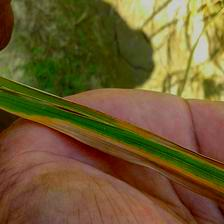2 BacterialBlight: (15, 74, 202, 189)
